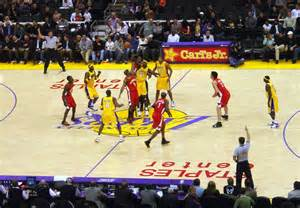basketball: (124, 42, 129, 47)
